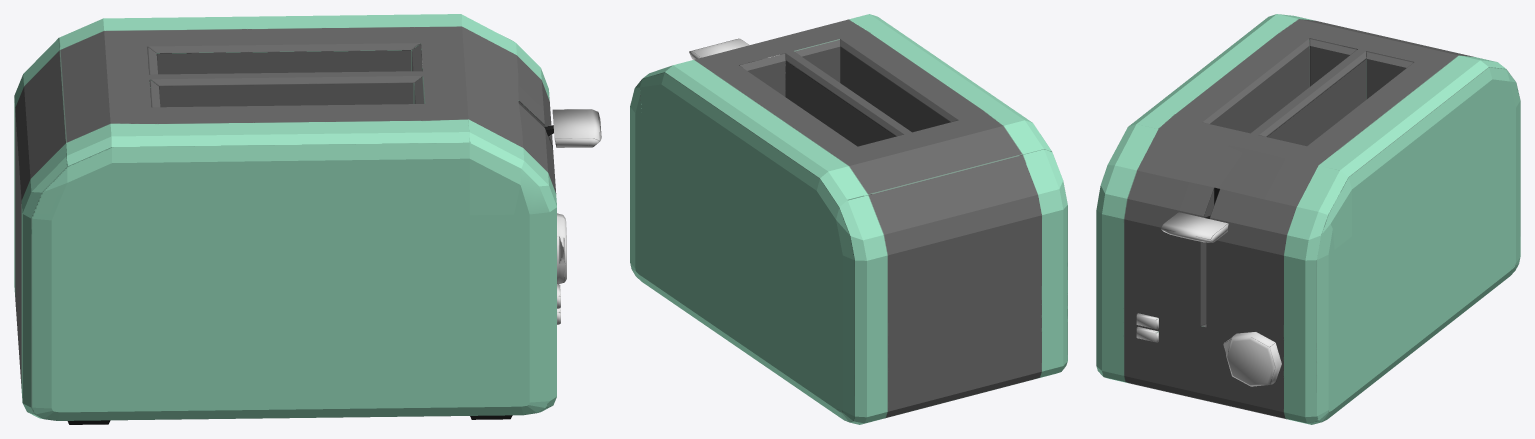
File: toaster.fbx
The picture shows the model from 3 angles, left to right: view 1: azimuth 30°, elevation 25°; view 2: azimuth 150°, elevation 25°; view 3: azimuth 270°, elevation 25°; orthographic projection. The views are drawn at different scales.
Visible parts, largest first — view 1: Toaster; view 2: Toaster; view 3: Toaster.
Part boxes in pixels (left/top/right/bottom): Toaster: left=14, top=14, right=601, bottom=424; Toaster: left=630, top=14, right=1067, bottom=424; Toaster: left=1096, top=14, right=1520, bottom=424.
Size of the model in its own units: 1.14 by 0.6099 by 0.9685.
Materials: 1 (1 with a texture image).
